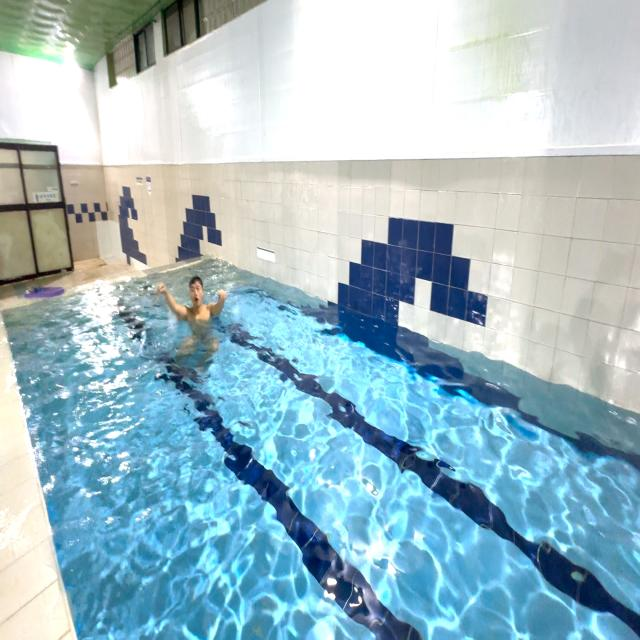Drowning: (145, 260, 244, 376)
